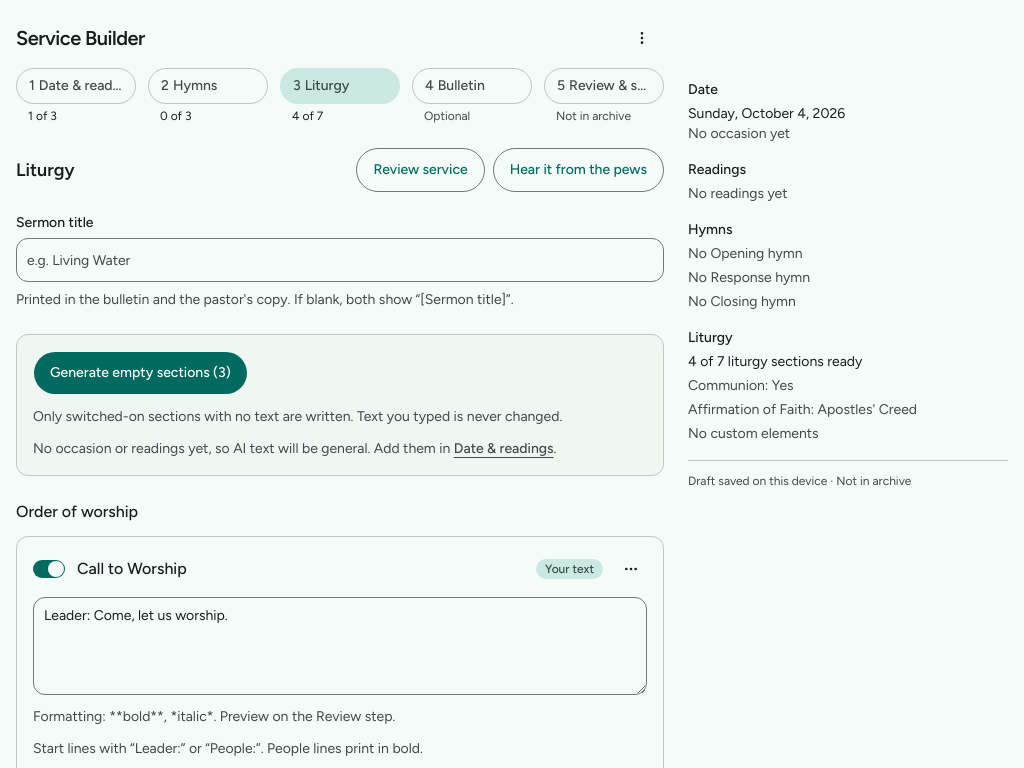
it: Hear it from the pews (pew voices spec) › Cancel leaves no request live: an answer that comes after shows nothing, and the next tap asks again
Click the button "Hear it from the pews": x=578, y=170 [493, 148, 664, 192]
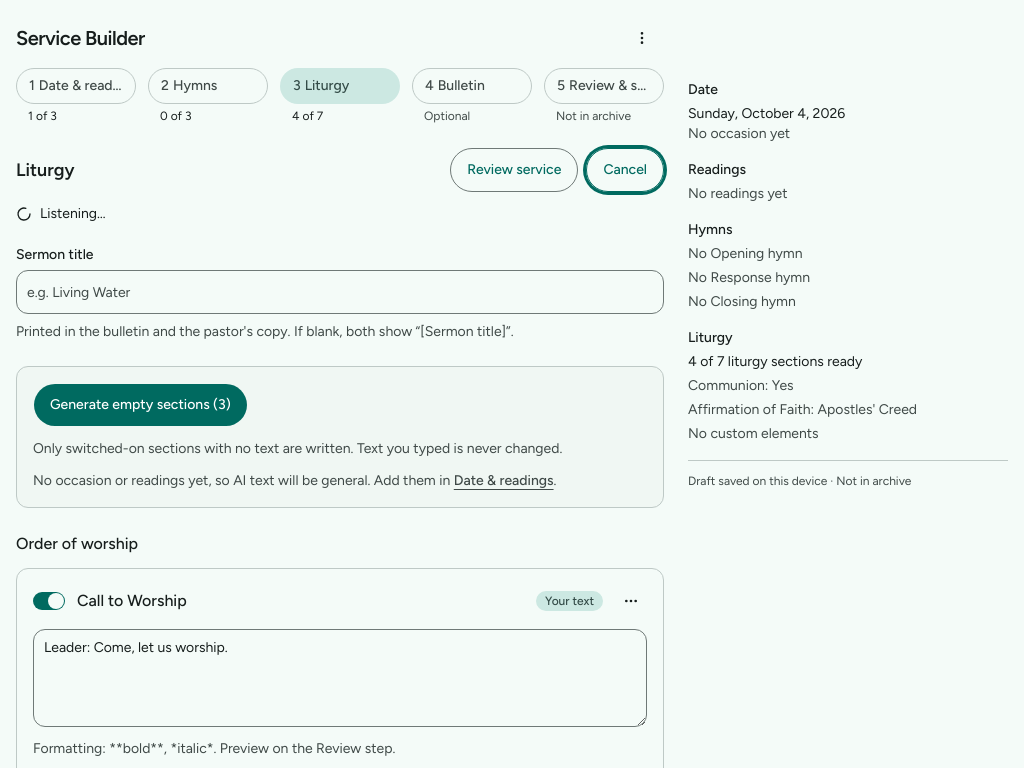
Click the button with aria-label "Cancel hearing from the pews": x=625, y=170 [586, 148, 664, 192]
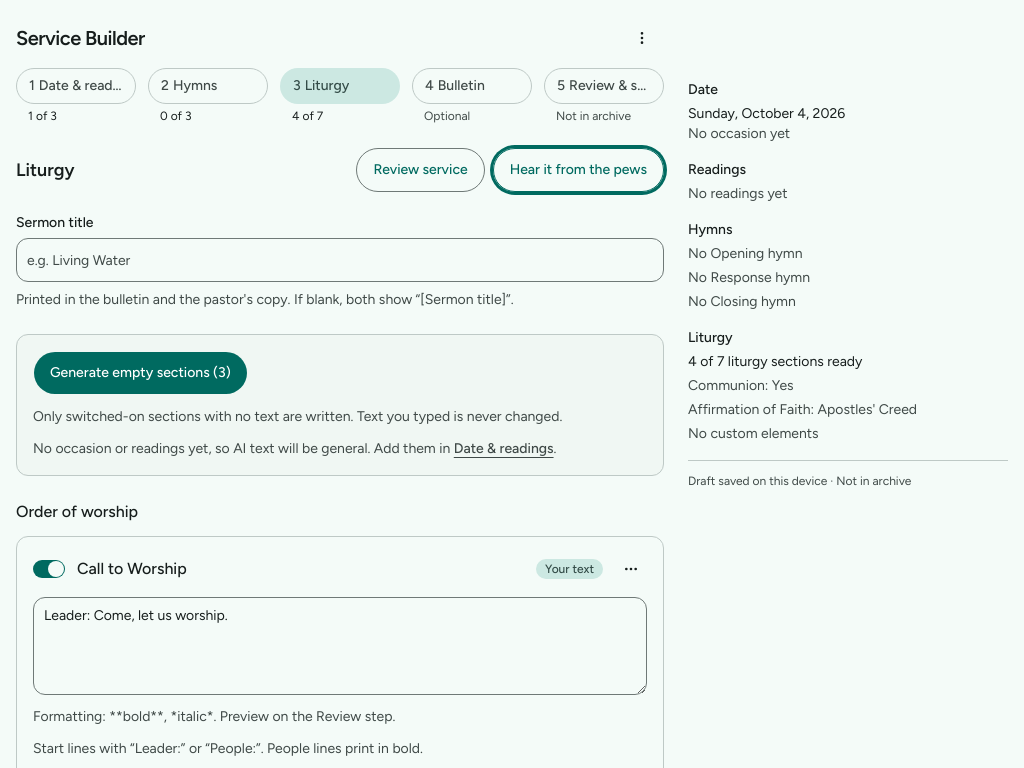
Expected: the text "From the pews: " is not shown
Click the button "Hear it from the pews": x=578, y=170 [493, 148, 664, 192]
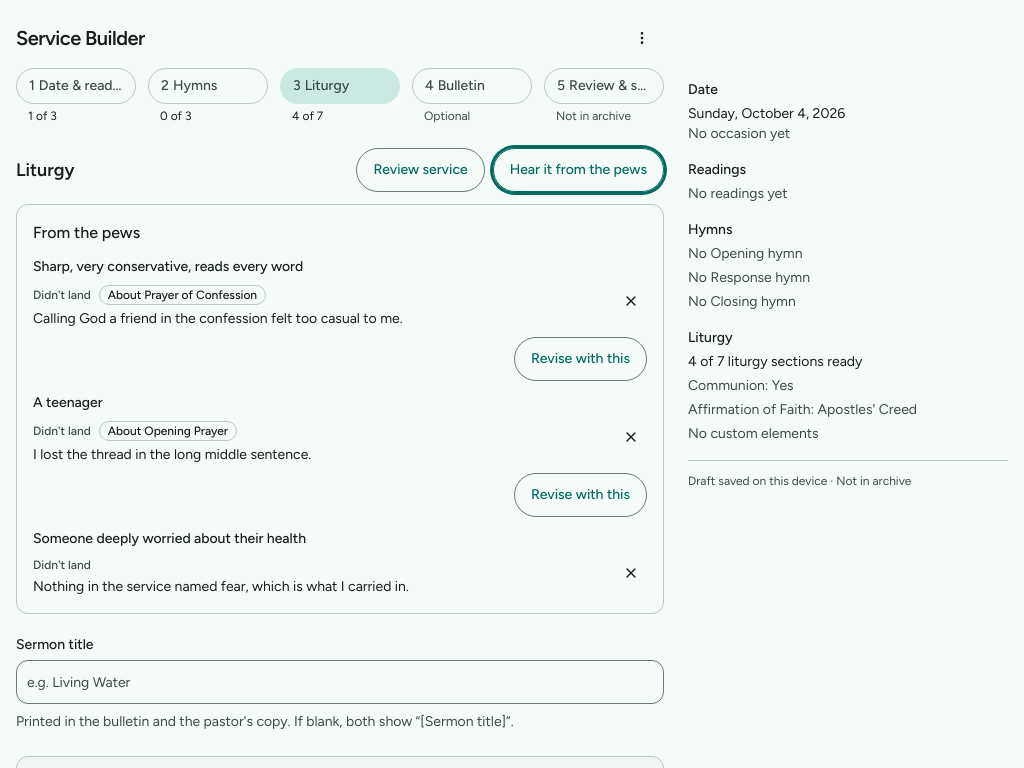
Expected: the text "I lost the thread in the long middle sentence." is shown, [33, 446, 311, 463]
